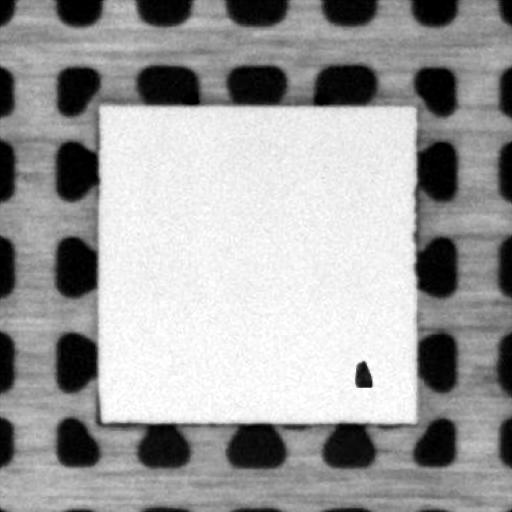DIE_INK: (351, 358, 371, 386)
